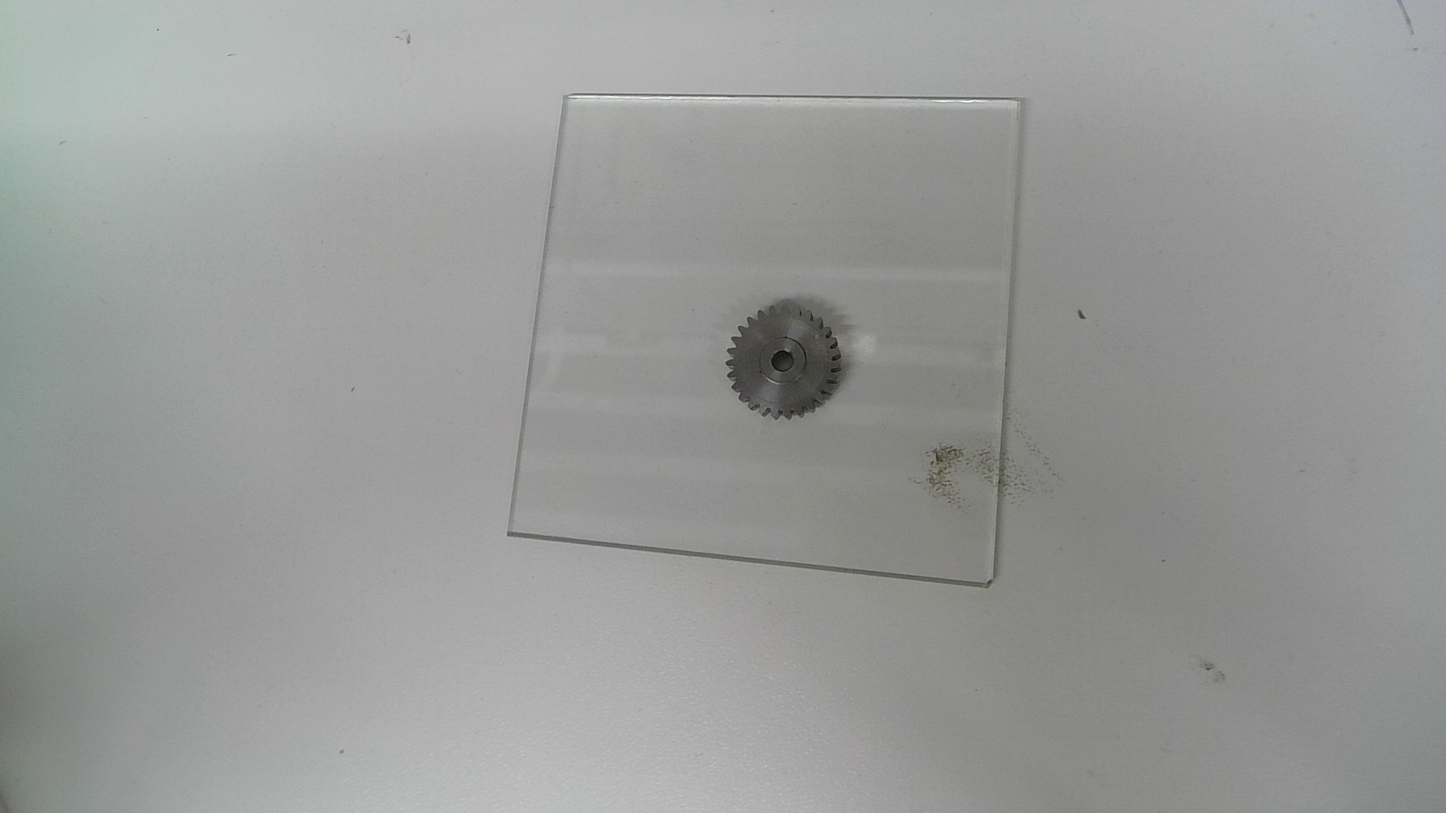gear: (722, 298, 844, 421)
